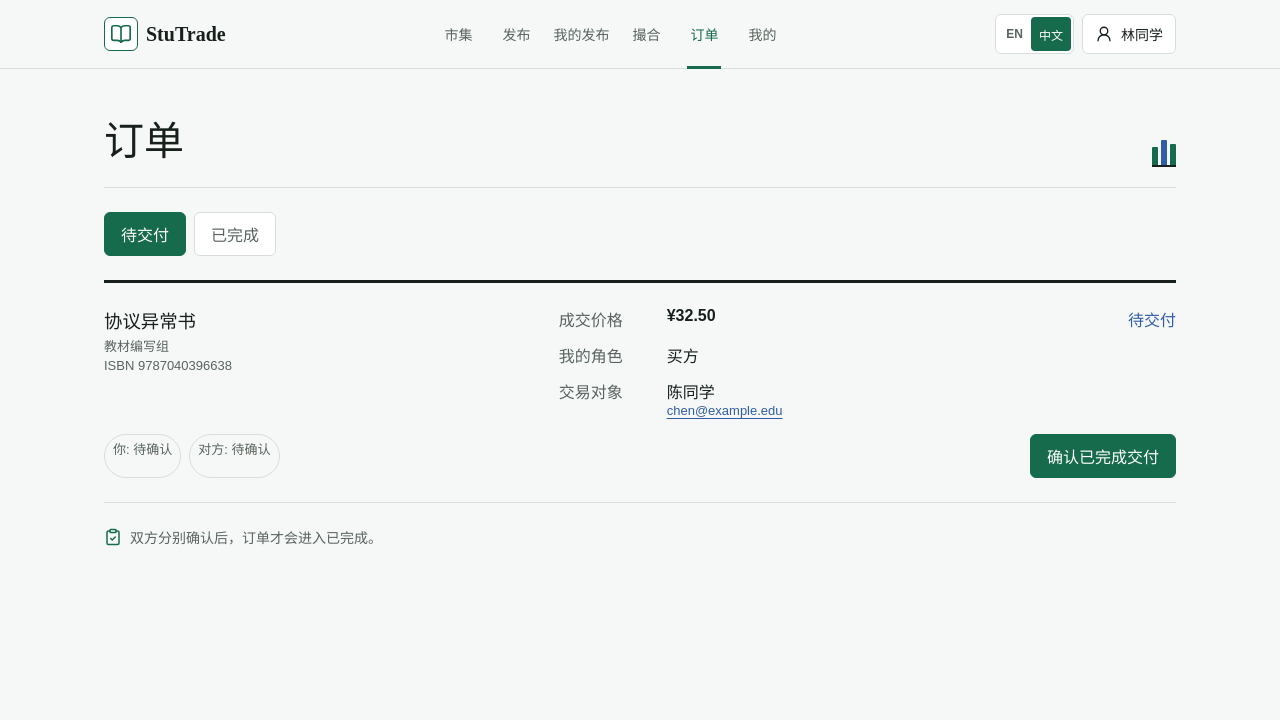
orders › treats a malformed 409 problem as unavailable without conflict refresh
The image size is (1280, 720).
What coordinates should you click on to do the following:
click the button "确认已完成交付"
I would click on:
 (1103, 456)
Its box is [1030,434,1176,478].
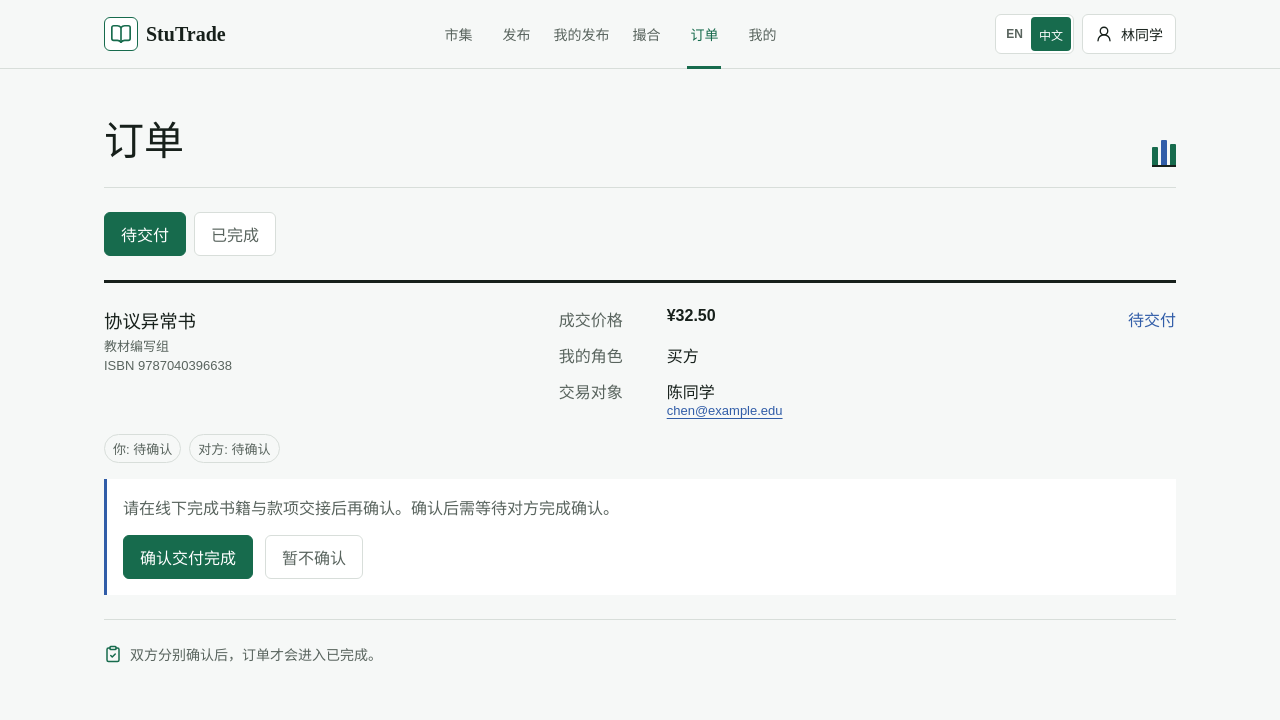
What coordinates should you click on to do the following:
click the button "确认交付完成"
I would click on:
 (188, 557)
Its box is [123,535,253,579].
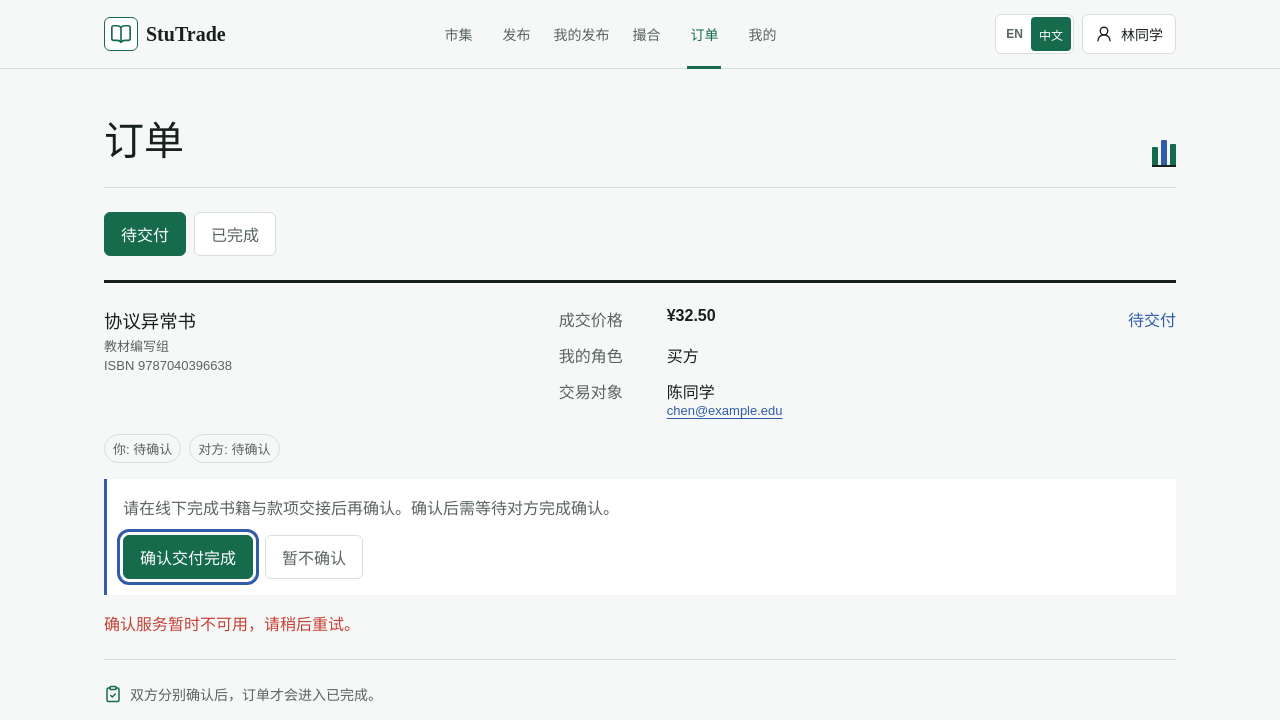
Now the message shows "确认服务暂时不可用", box [104,616,360,633]
